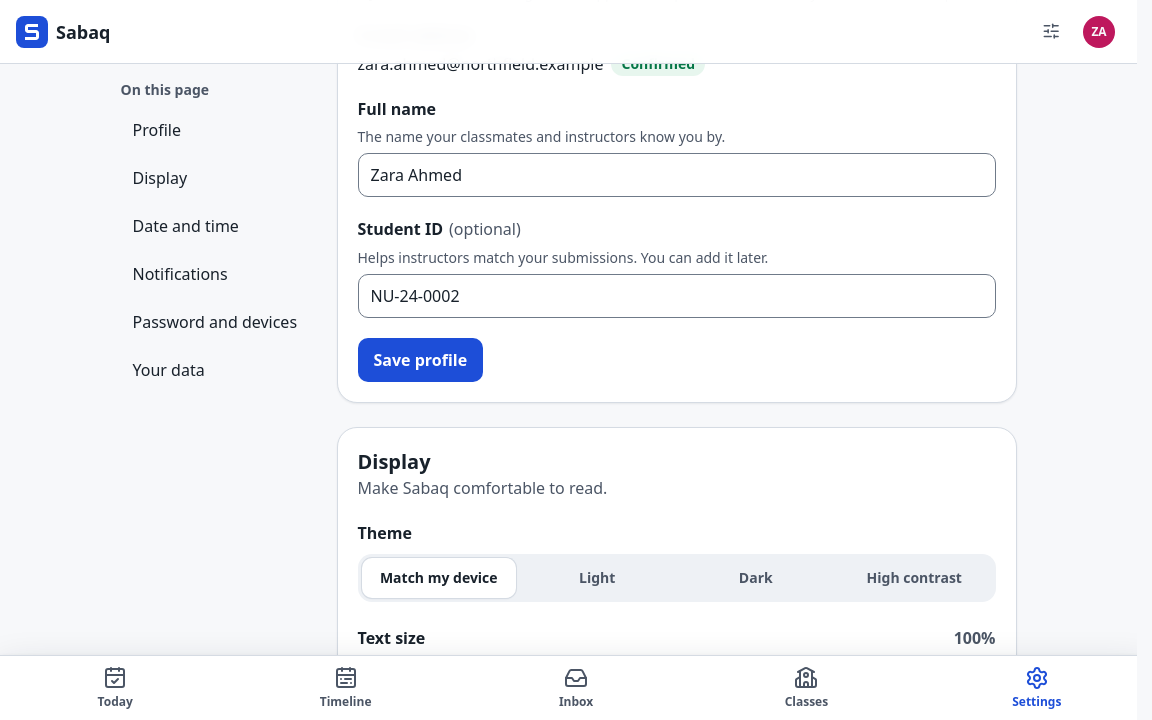
Test case: settings › shows the API’s field problems on the profile form
(page scrolled)
Click the button "Save profile" at (420, 360), box [358,338,483,382]
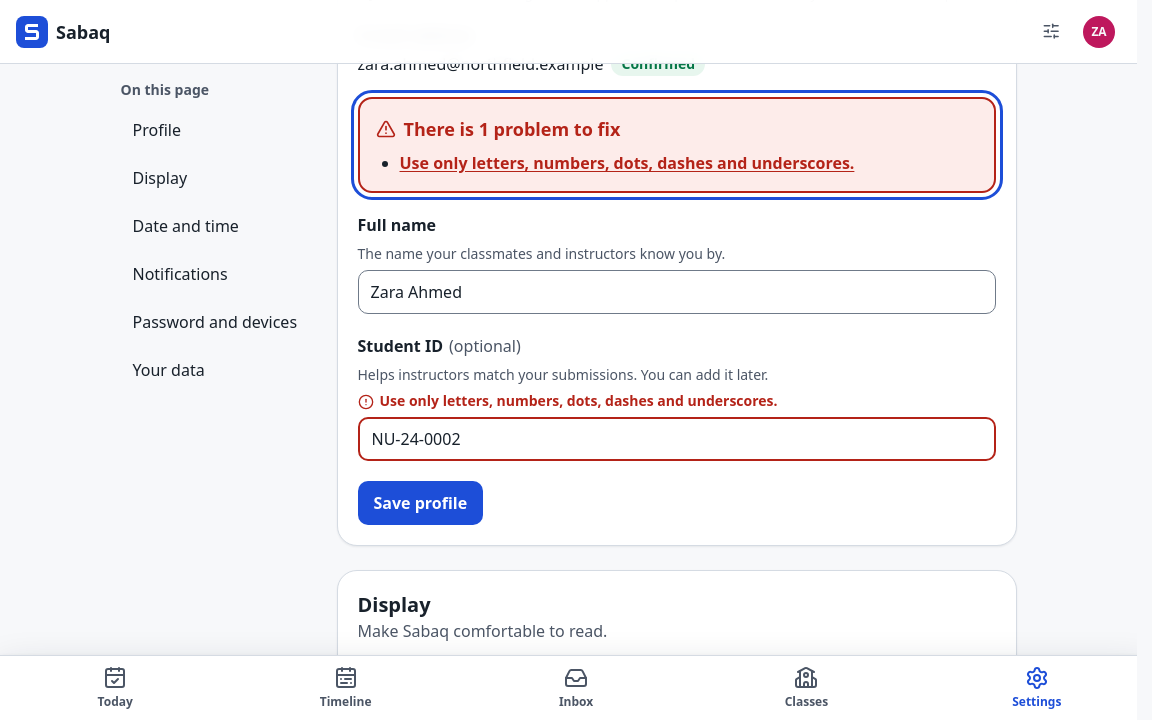
Check: the field labelled "Student ID(optional)" is marked as invalid, box [358,417,996,461]
